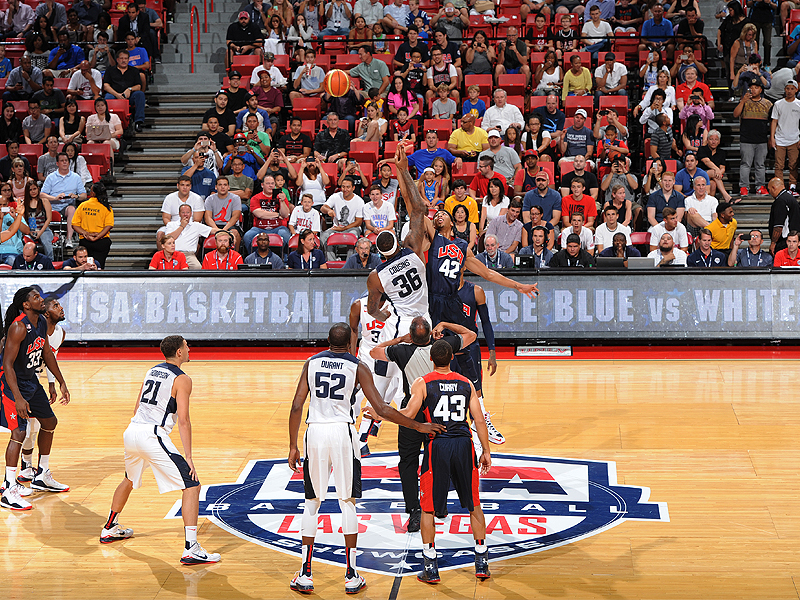basketball: (319, 68, 354, 101)
basketball player: (94, 334, 231, 569), (279, 323, 385, 600), (407, 341, 493, 592), (6, 276, 53, 531), (359, 231, 440, 325), (421, 212, 463, 324)
